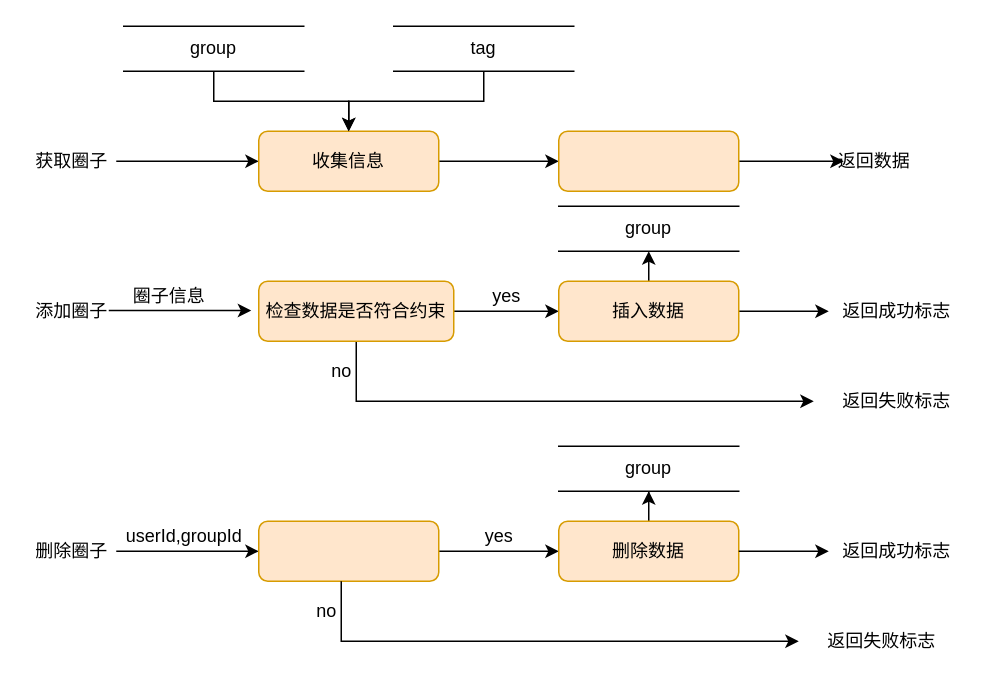
The diagram is 989 pixels wide and 683 high, and some of its shapes have lost their labels. Here are the shapes that lost their labels. From the top down, the centre of each, then its label:
(x=648, y=160): 进行热门度排序
(x=348, y=550): 检查用户是否是圈子的发起者
